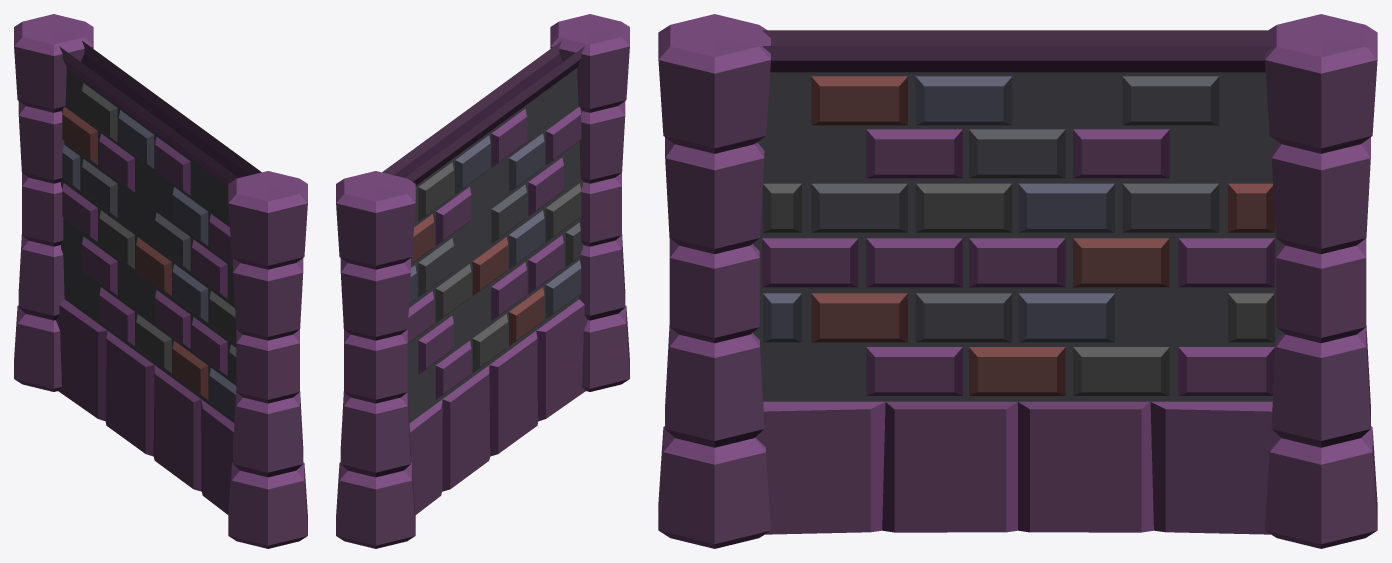
Rendered from wall_diviver_glb.glb.
The picture shows the model from 3 angles, left to right: view 1: azimuth 30°, elevation 25°; view 2: azimuth 150°, elevation 25°; view 3: azimuth 270°, elevation 25°; orthographic projection. The views are drawn at different scales.
Parts seen in each view (by area): view 1: wall_divider; view 2: wall_divider; view 3: wall_divider.
Part boxes in pixels (bbox=[...]): wall_divider: bbox=[14, 14, 307, 548]; wall_divider: bbox=[336, 14, 629, 548]; wall_divider: bbox=[658, 14, 1377, 548].
Size of what is drawn, in the model's own units: 0.7179 by 2.99 by 3.97.
Materials: 1 (1 with a texture image).
